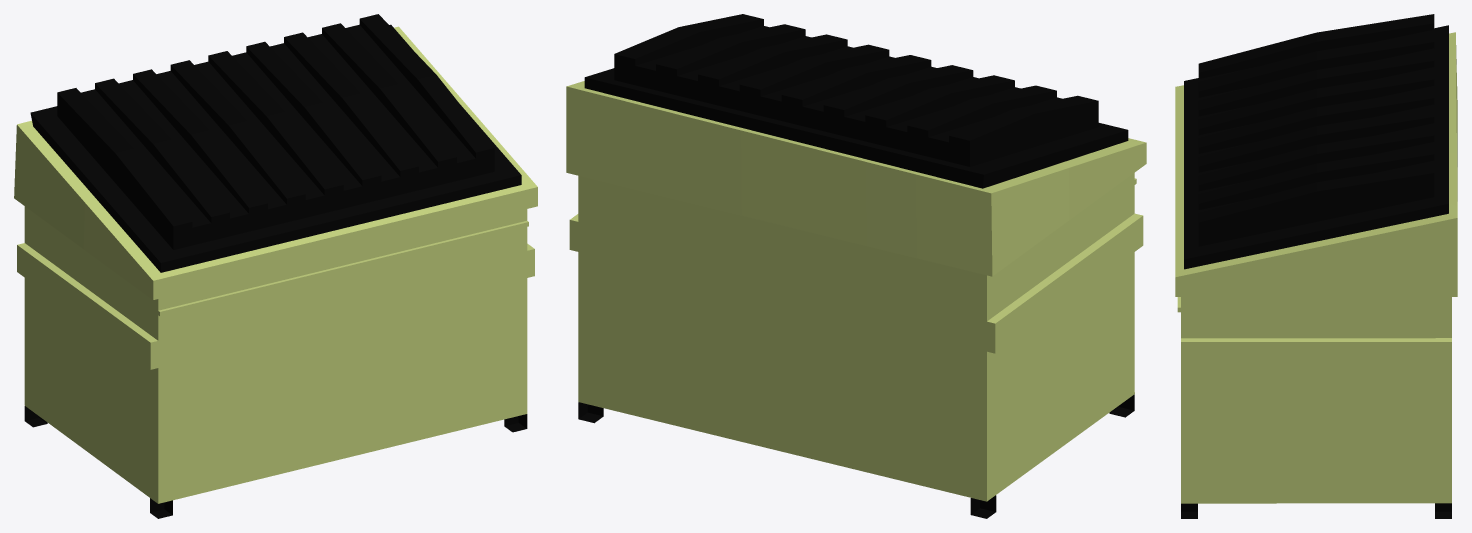
The model's file is Bin_2.fbx.
The picture shows the model from 3 angles, left to right: view 1: azimuth 30°, elevation 25°; view 2: azimuth 150°, elevation 25°; view 3: azimuth 270°, elevation 25°; orthographic projection. The views are drawn at different scales.
Visible parts, largest first — view 1: Bin_2; view 2: Bin_2; view 3: Bin_2.
Boxes of the visible parts, x1,y1,x2,y2 form: Bin_2: (14,14,537,518); Bin_2: (566,14,1146,518); Bin_2: (1175,14,1457,518).
Bounding box in the file's own units: 73.08 × 59.79 × 45.79.
